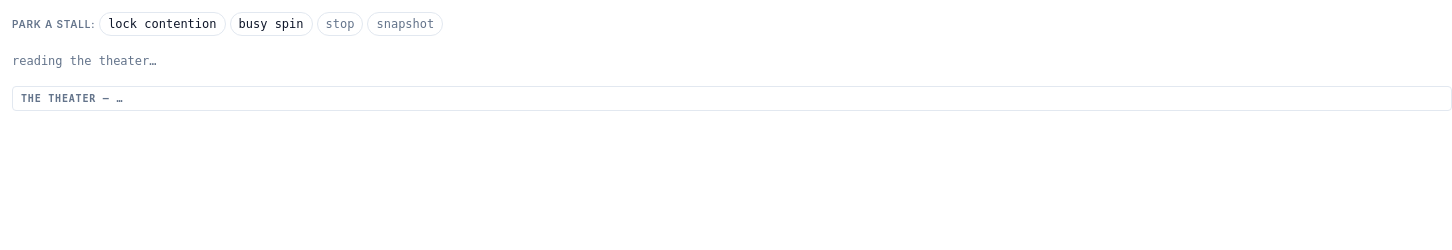
DebugStallDemo › parks the lock stall and renders the dump-shaped facts
Check: the element with test id "debug-report" is shown, box [12,86,1451,111]
Click the button with test id "debug-start-lock".
click(162, 24)  # box [99,12,226,36]
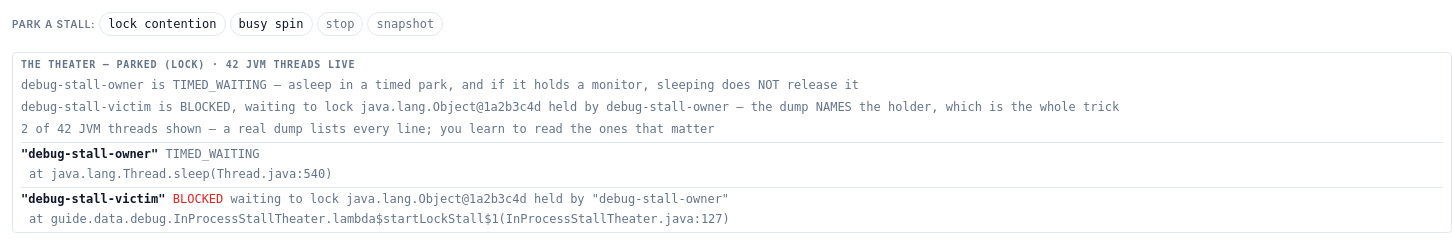
Check: the element with test id "debug-report" shows "parked (lock)", box [116,59,205,70]
Check: the element with test id "debug-report" shows "\"debug-stall-owner\""
Check: the element with test id "debug-report" shows "TIMED_WAITING", box [166,147,259,161]
